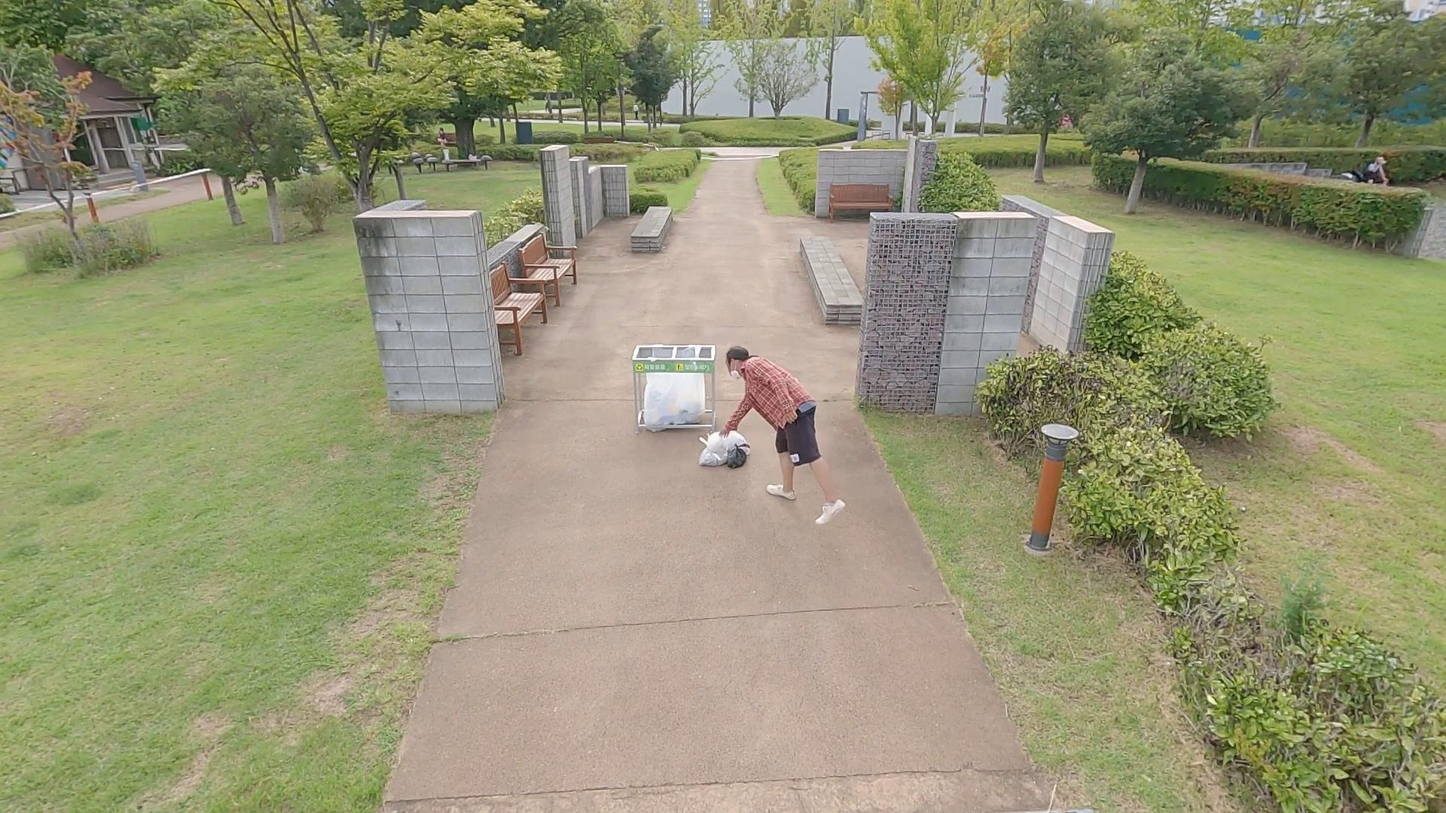person: (719, 345, 846, 527)
trash: (706, 431, 750, 458), (698, 439, 727, 467), (725, 444, 747, 468)
